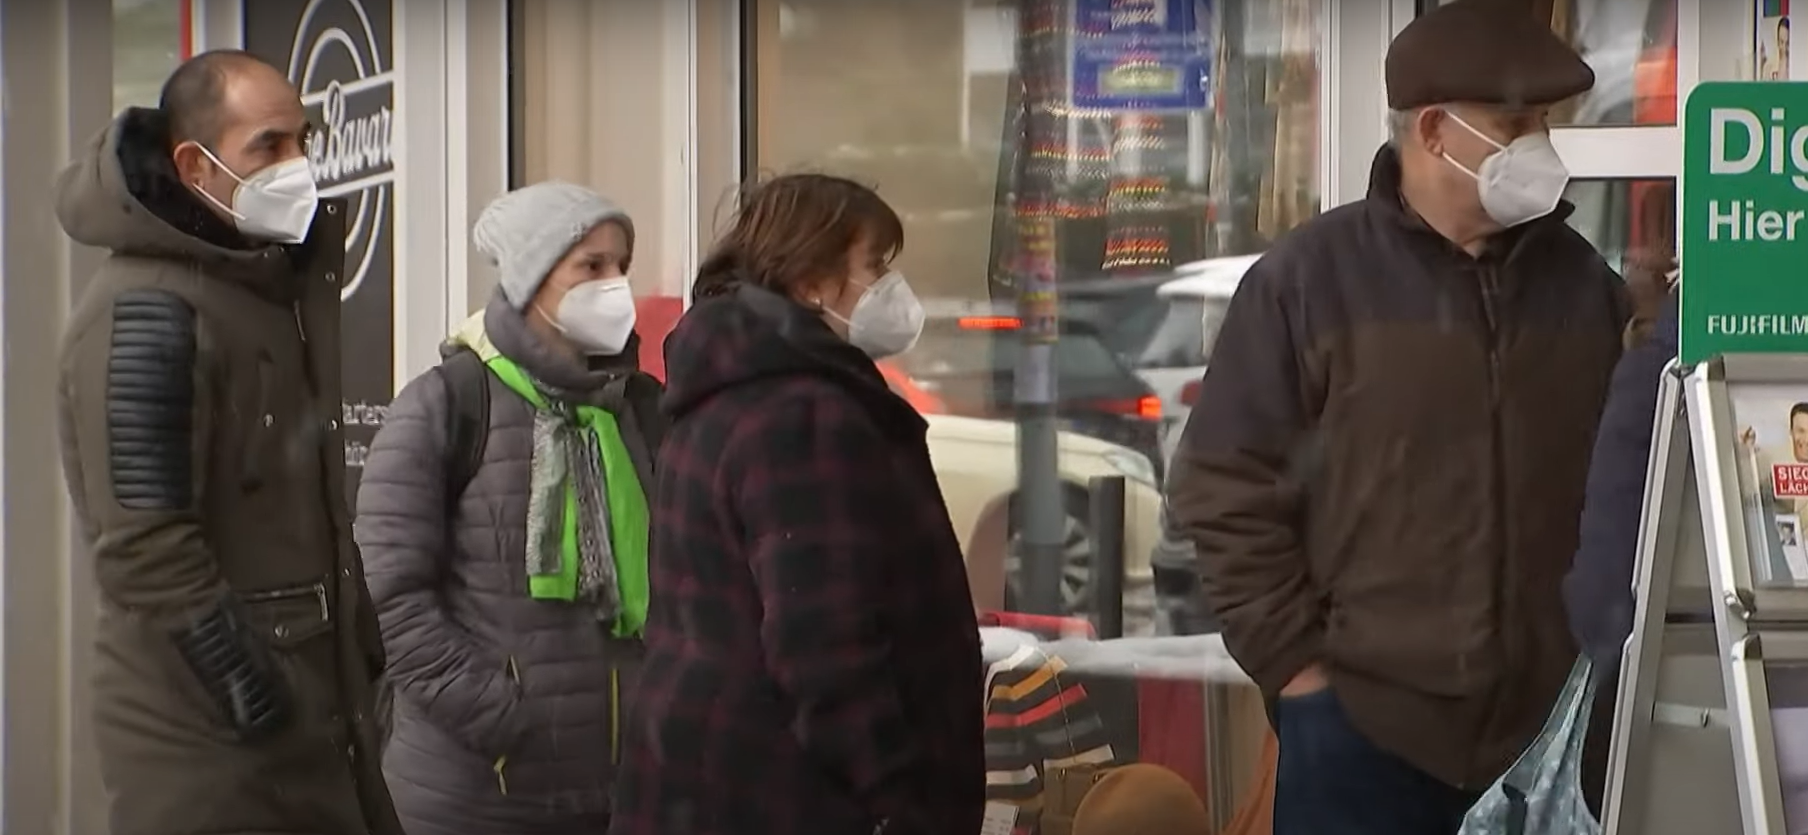with_mask: (202, 110, 316, 246), (1459, 96, 1554, 255), (812, 237, 902, 358), (559, 240, 631, 369)
